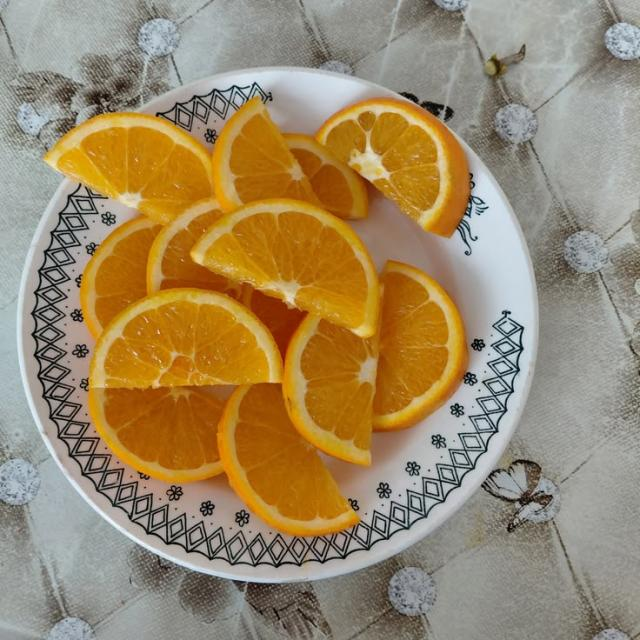orange: (192, 199, 379, 337), (218, 385, 359, 535), (316, 99, 470, 236), (90, 289, 282, 388), (45, 113, 213, 223), (374, 261, 467, 430), (283, 316, 378, 465), (89, 387, 224, 482), (212, 97, 318, 211), (80, 216, 162, 338), (147, 198, 242, 299), (284, 134, 368, 219), (242, 285, 306, 358)
